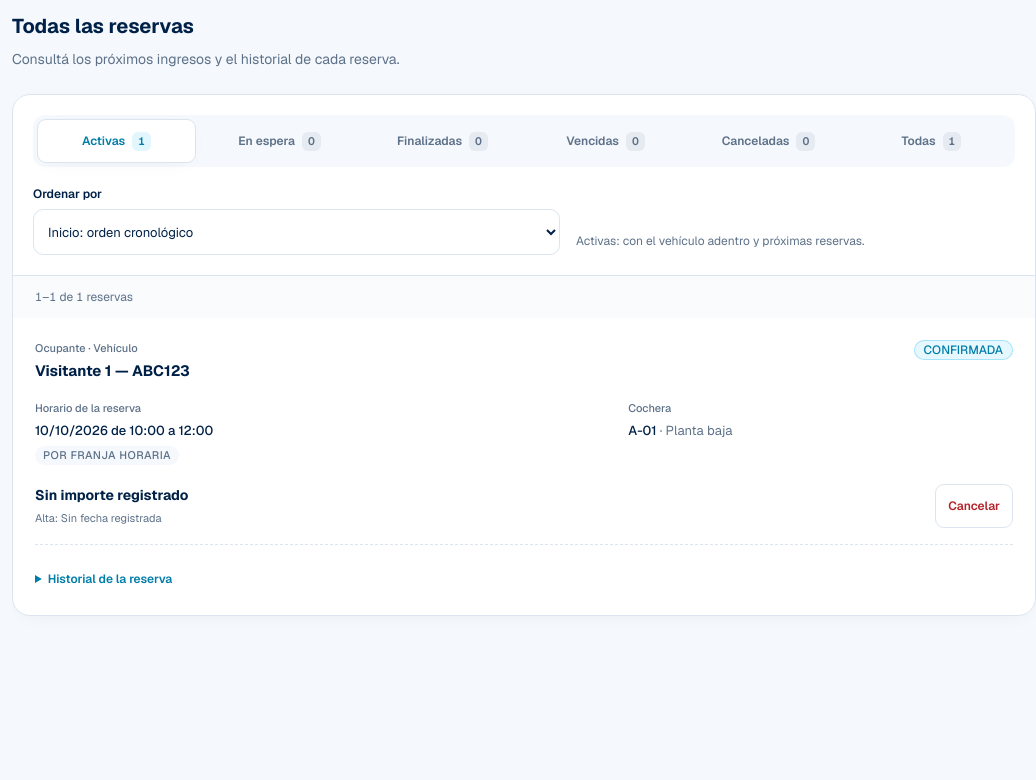
ReservasListado en modo admin › conserva el historial desplegable y los datos ausentes de reservas antiguas
The width and height of the screenshot is (1036, 780).
expect the text "Alta: Sin fecha registrada" is shown: met, box x1=35 y1=511 x2=162 y2=525
expect the text "Sin importe registrado" is shown: met, box x1=35 y1=485 x2=188 y2=506
Click the heading "Historial de la reserva" at point(110, 579), box x1=48 y1=571 x2=172 y2=587
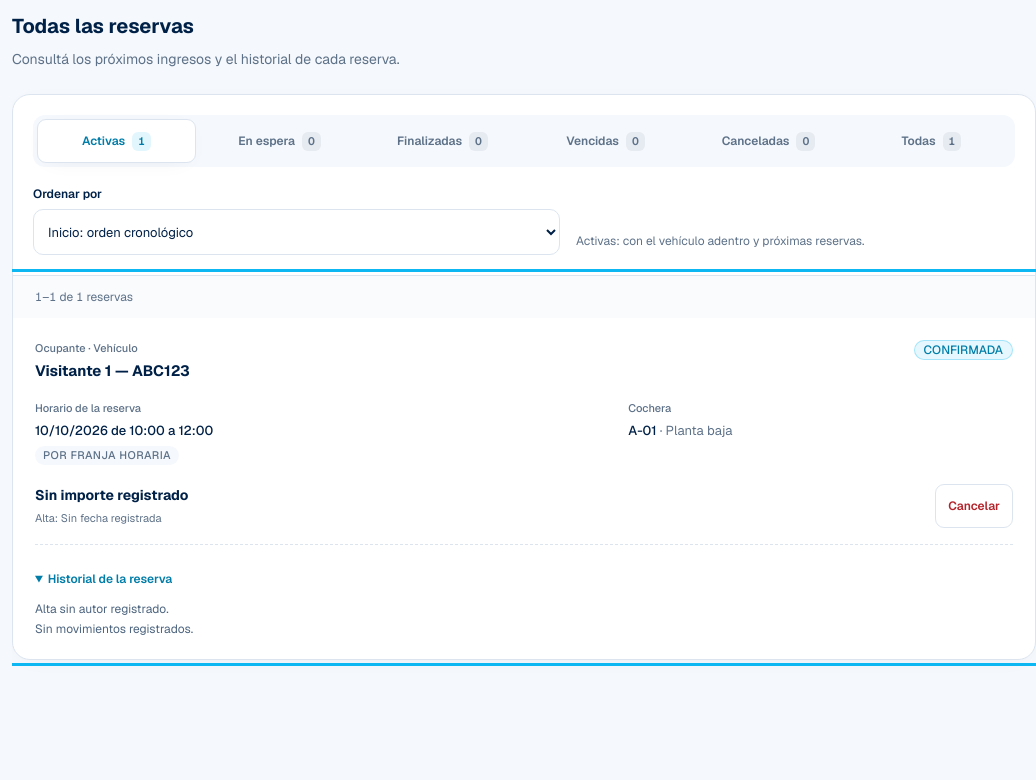
expect the text "Alta sin autor registrado." is shown: met, box x1=35 y1=601 x2=168 y2=617
expect the text "Sin movimientos registrados." is shown: met, box x1=35 y1=621 x2=193 y2=637
